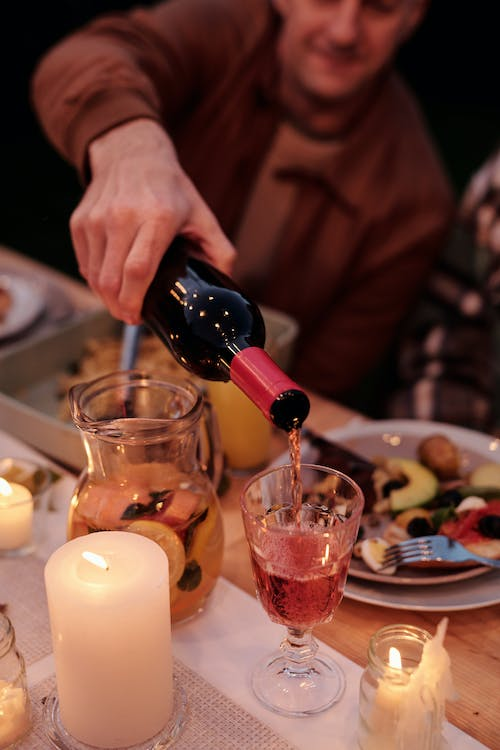alcohol: (142, 235, 312, 430), (239, 461, 364, 719)
